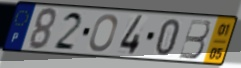0: (154, 18, 182, 58)
2: (51, 11, 85, 52)
4: (117, 14, 144, 57)
8: (27, 6, 58, 52)
B: (177, 18, 211, 61)
O: (88, 13, 119, 54)
